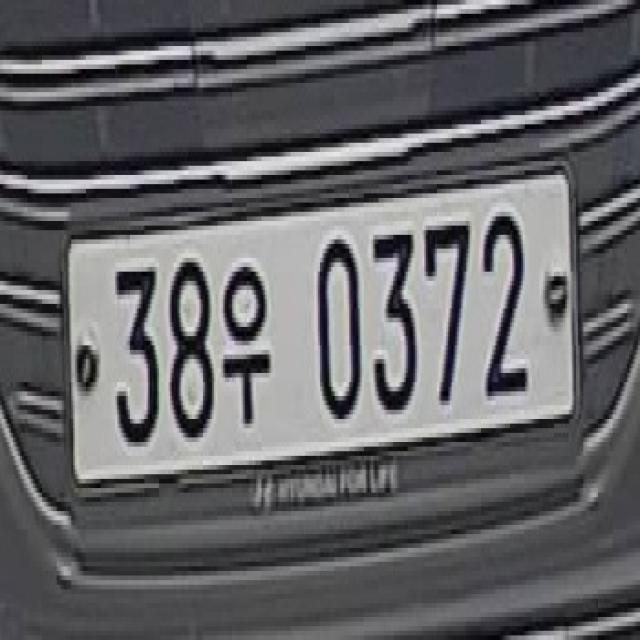0: (315, 235, 362, 419)
2: (479, 212, 530, 396)
3: (368, 216, 420, 424), (108, 258, 161, 451)
7: (424, 221, 472, 410)
8: (165, 249, 214, 442)
license_plate: (60, 152, 585, 497)
u: (218, 258, 274, 428)
